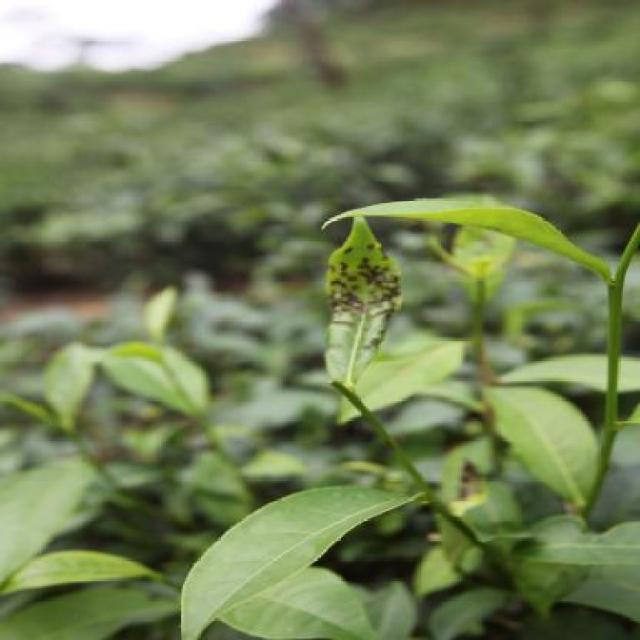Tea Mosquito bug infested leaf: (291, 208, 417, 423)
